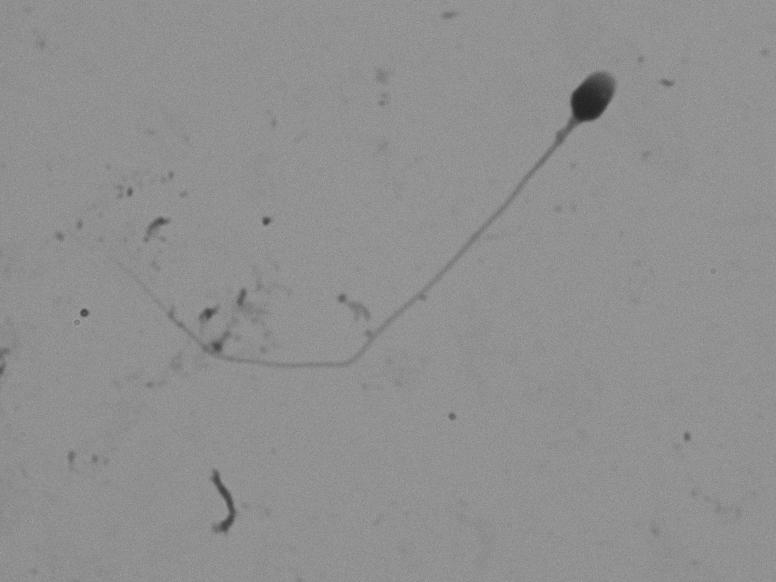Normal: (82, 46, 690, 416)
